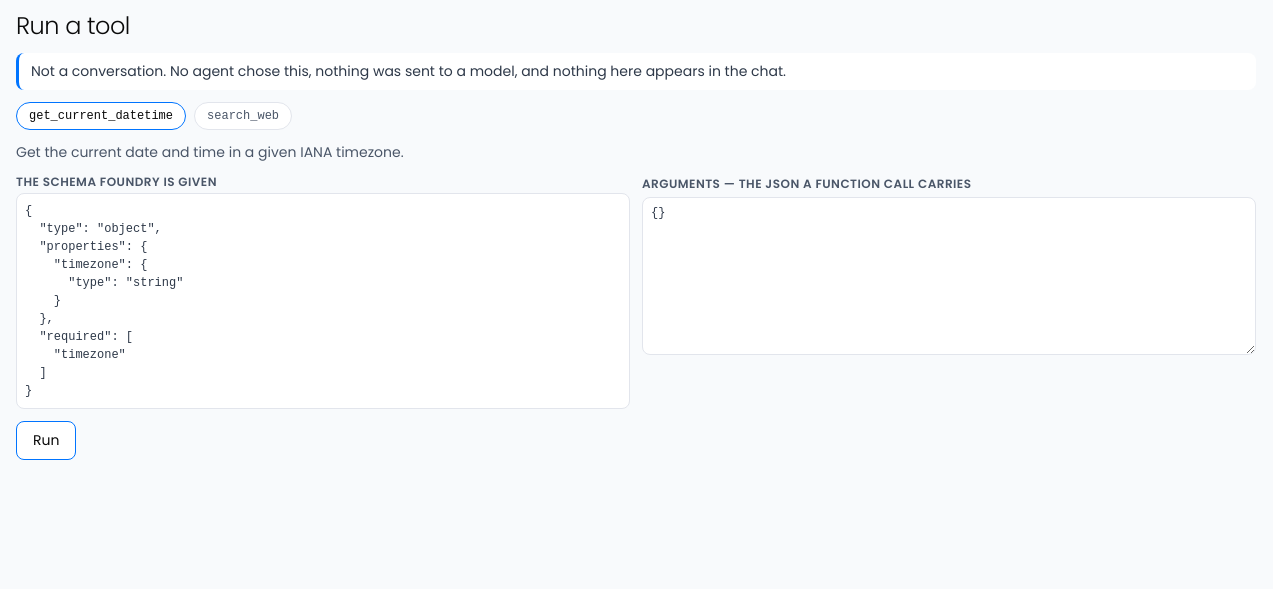
a long output (assessment 2026-10-15) › shows a non-JSON output as it came
Click the button "Run". click: (46, 441)
box: [16,421,76,460]
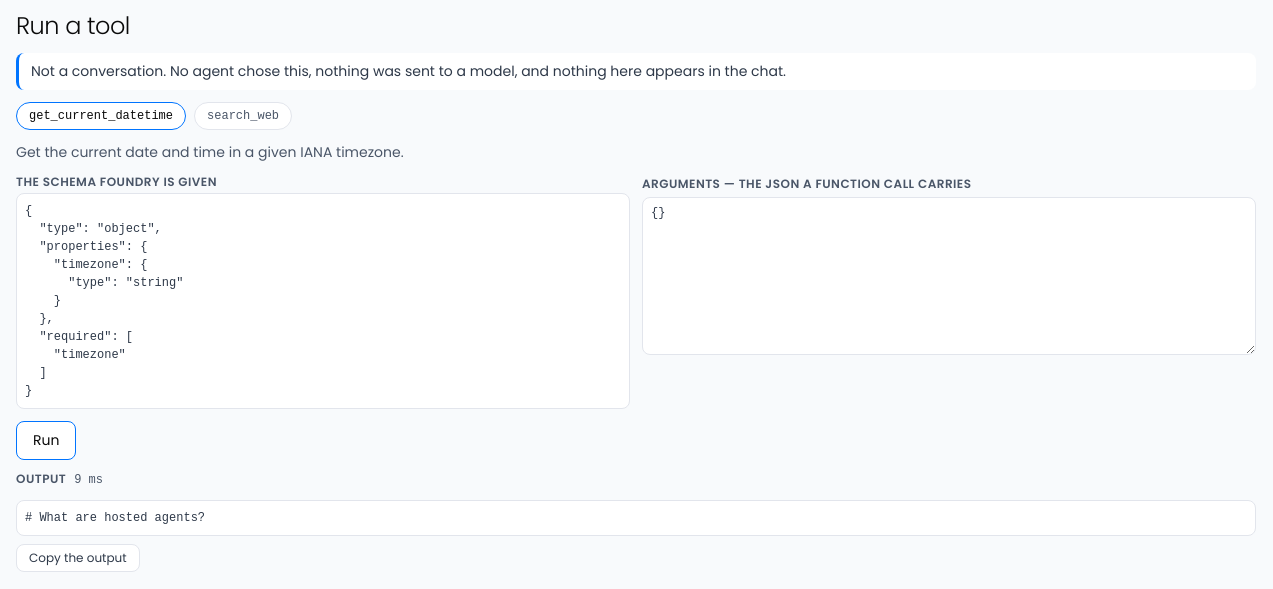
Result: the text with test id "tool-output" reads "# What are hosted agents?" at [25,511,205,525]
